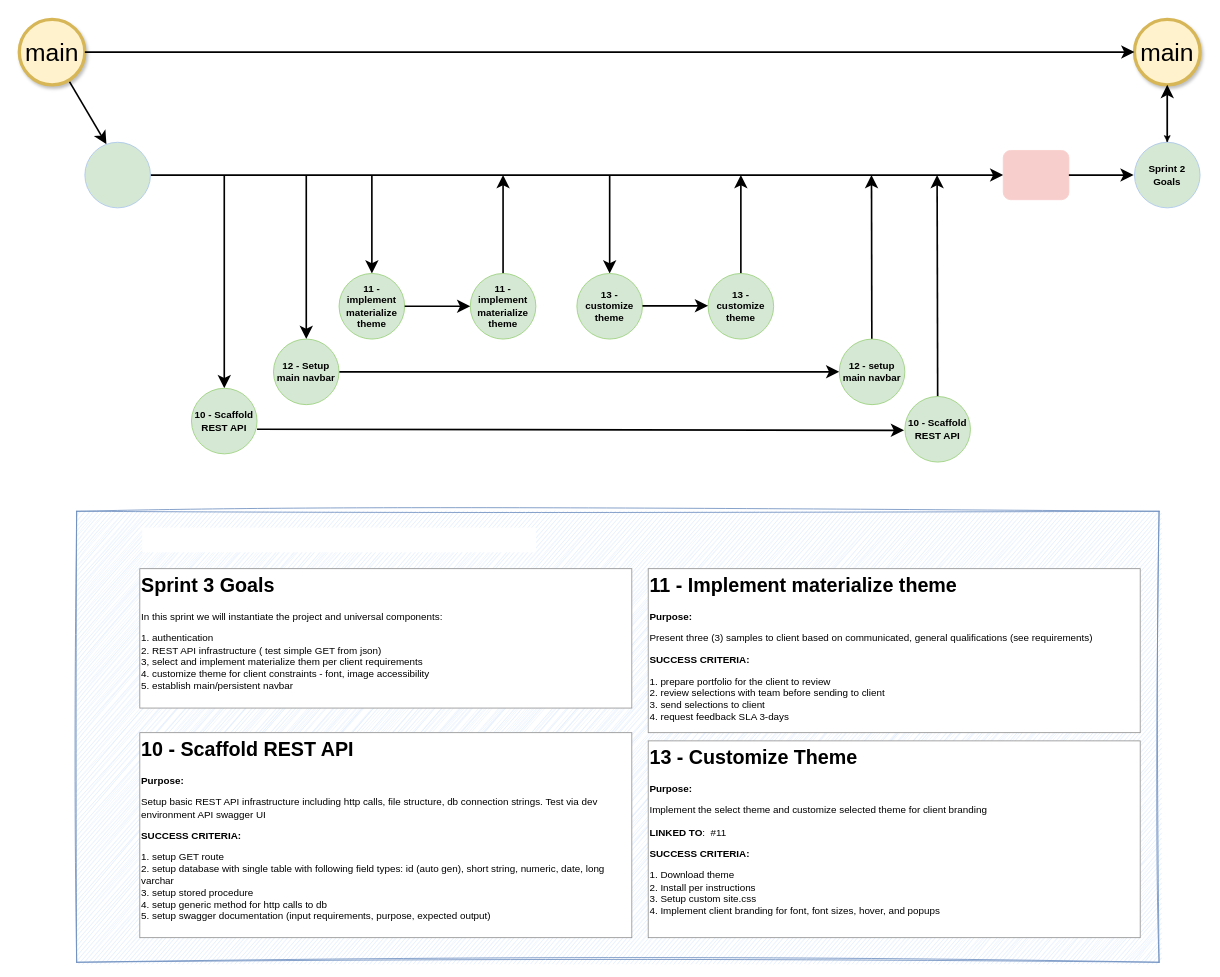
Image size: 1220x977. Some labels were removed from this diagram. Here are the shapes that lost their labels. From the top down, the centre of each, then its label:
At (x=117, y=174): "Sprint 3 Goals".
At (x=1035, y=175): "client review".
At (x=338, y=539): "GitLab Issue Board (Kanban Board) Content:".
